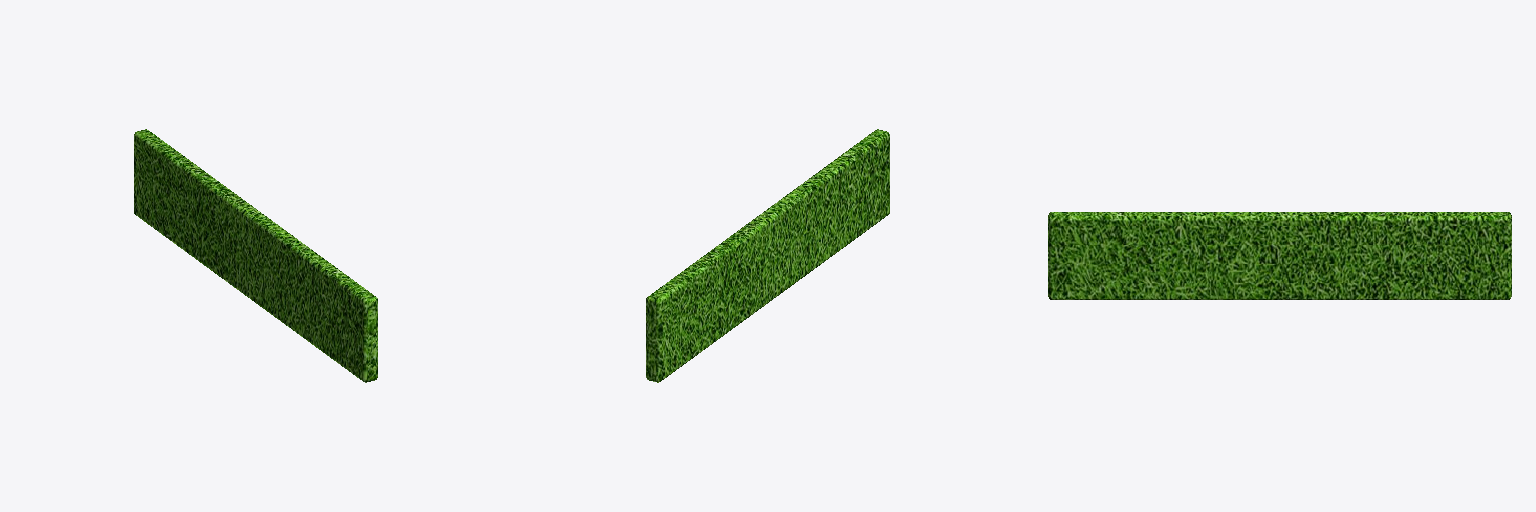
3 views of the same model, side by side, from view 1: azimuth 30°, elevation 25°; view 2: azimuth 150°, elevation 25°; view 3: azimuth 270°, elevation 25° (orthographic).
Parts seen in each view (by area): view 1: Cube; view 2: Cube; view 3: Cube.
Part boxes in pixels (x1,y1,x2,y2): Cube: (134, 129, 377, 382); Cube: (646, 129, 889, 382); Cube: (1048, 212, 1511, 299).
Bounding box in the file's own units: 0.3 × 1.6 × 8.
Materials: 1 (1 with a texture image).